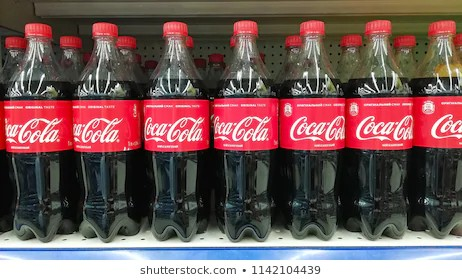coke-bottle-2l: (72, 16, 145, 238), (210, 14, 279, 241), (347, 13, 416, 238), (283, 14, 346, 241), (147, 17, 210, 239), (9, 17, 72, 238), (412, 15, 462, 238)
